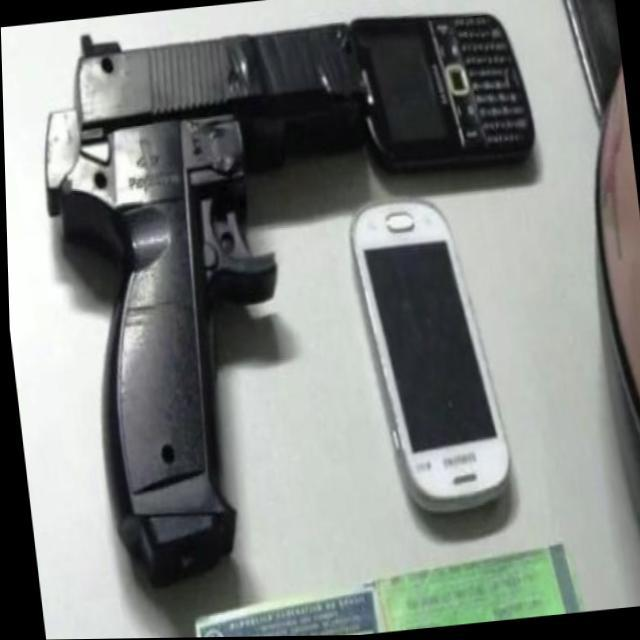weapon: (25, 0, 581, 593)
